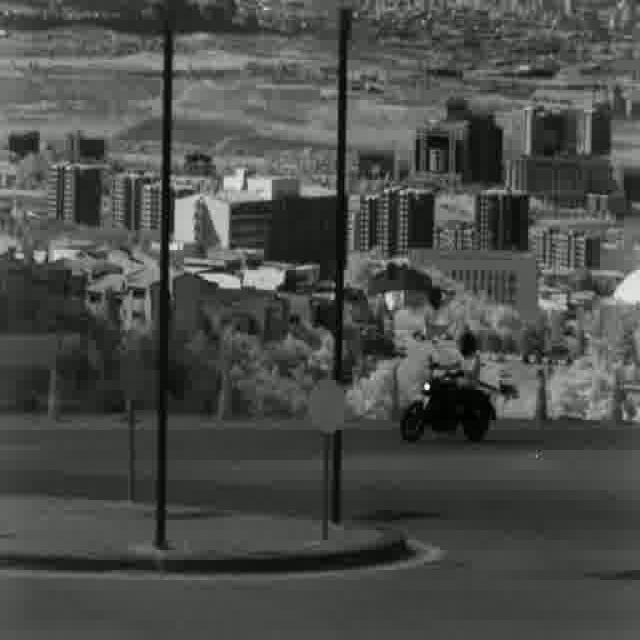Motorcycle: (392, 327, 500, 448)
